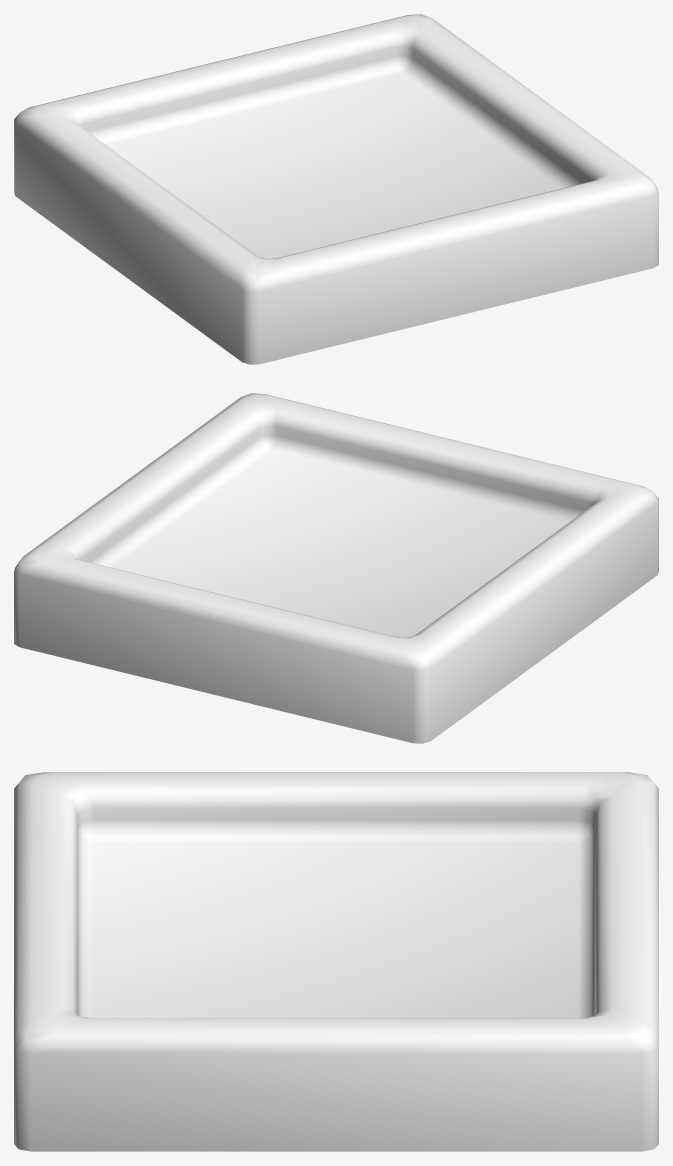
File: MM_Dirt_Pot.fbx
3 views of the same model, one above another, from view 1: azimuth 30°, elevation 25°; view 2: azimuth 150°, elevation 25°; view 3: azimuth 270°, elevation 25° (orthographic). The views are drawn at different scales.
Visible parts, largest first — view 1: Dirt_Pot; view 2: Dirt_Pot; view 3: Dirt_Pot.
Part boxes in pixels (<box>): Dirt_Pot: <box>14,14,658,364</box>; Dirt_Pot: <box>14,393,658,743</box>; Dirt_Pot: <box>14,772,658,1151</box>.
Size of the model in its own units: 117 by 22.76 by 117.
